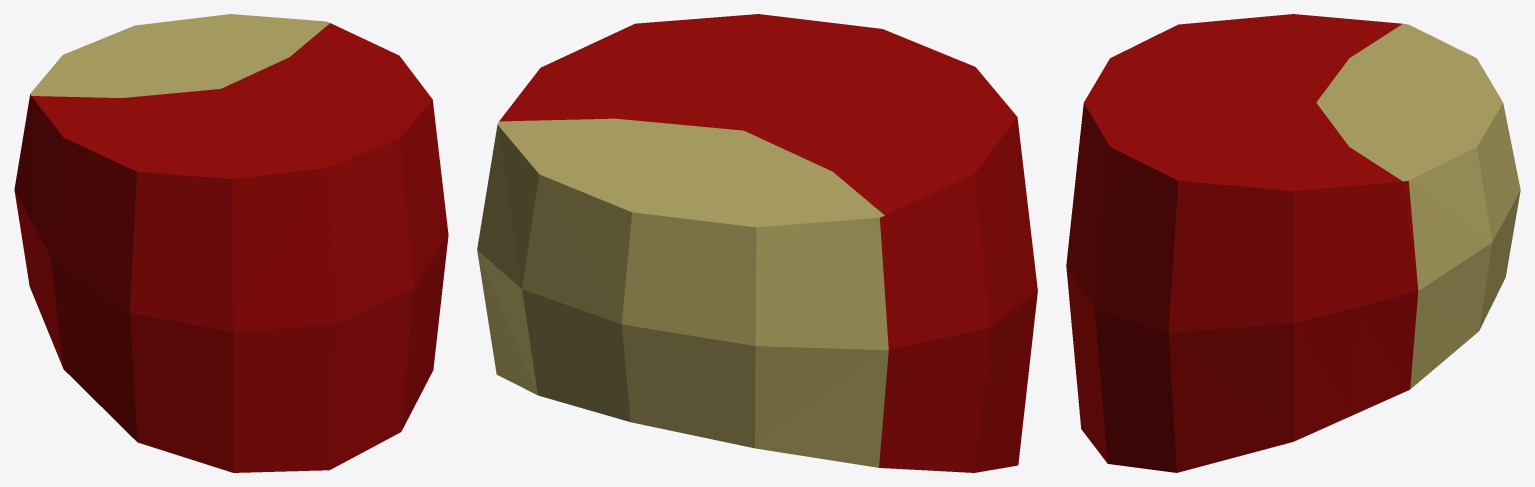
The model's file is Doragon_neck.obj.
3 renders of one model, left to right at view 1: azimuth 30°, elevation 25°; view 2: azimuth 150°, elevation 25°; view 3: azimuth 270°, elevation 25°, orthographic. The views are drawn at different scales.
Visible parts, largest first — view 1: 首_立方体; view 2: 首_立方体; view 3: 首_立方体.
Boxes of the visible parts, box(x1,y1,x2,y2) form: 首_立方体: box(14, 14, 448, 472); 首_立方体: box(477, 14, 1037, 472); 首_立方体: box(1066, 14, 1520, 472).
Size of the model in its own units: 0.2918 by 0.2327 by 0.2936.
Materials: 1 (1 with a texture image).
